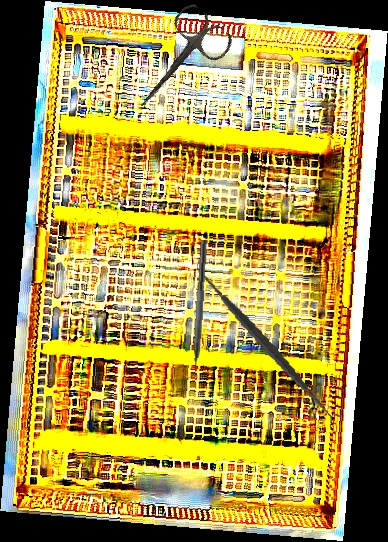Chopper: (183, 239, 208, 382)
Iris Scissors: (116, 0, 238, 126)
Spatula Surgical: (177, 256, 353, 432)
